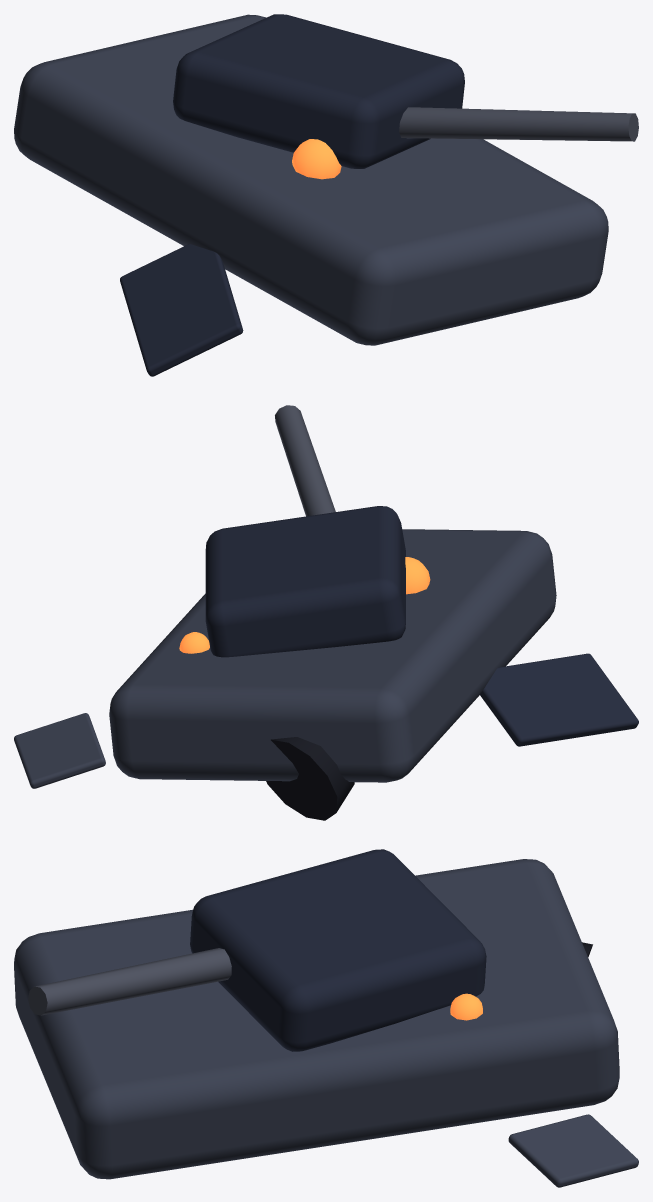
File: wreck.glb
3 views of the same model, one above another, from view 1: azimuth 30°, elevation 25°; view 2: azimuth 150°, elevation 25°; view 3: azimuth 270°, elevation 25° (orthographic). The views are drawn at different scales.
Visible parts, largest first — view 1: root:hull, root:plate, root:alloy, root:hot; view 2: root:hull, root:plate, root:dark, root:alloy, root:hot; view 3: root:hull, root:plate, root:alloy, root:hot.
Boxes of the visible parts, x1,y1,x2,y2 form: root:hull: [14, 14, 608, 345]; root:plate: [120, 14, 464, 376]; root:alloy: [399, 107, 638, 141]; root:hot: [292, 139, 341, 179]; root:hull: [14, 529, 556, 788]; root:plate: [205, 506, 638, 746]; root:dark: [266, 737, 354, 820]; root:alloy: [275, 405, 335, 516]; root:hot: [179, 557, 430, 653]; root:hull: [14, 859, 638, 1187]; root:plate: [190, 849, 486, 1051]; root:alloy: [28, 948, 231, 1015]; root:hot: [450, 993, 482, 1020].
Bounding box in the file's own units: 2.54 × 1.07 × 2.92.
